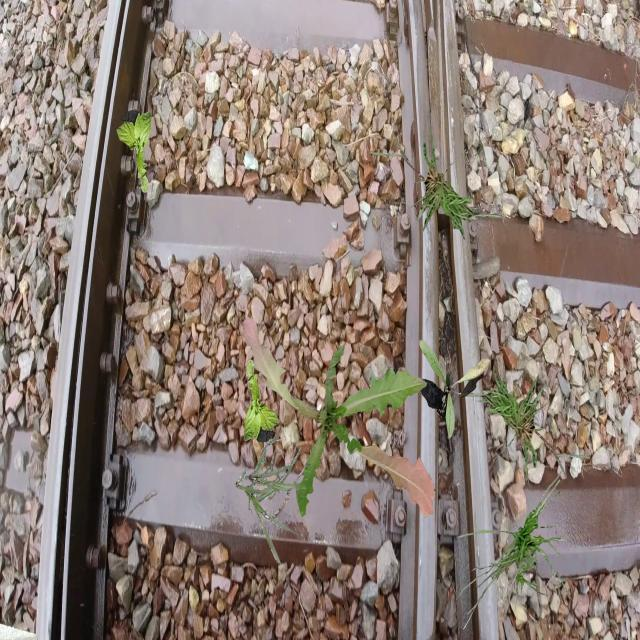Plant: (243, 317, 436, 520), (456, 468, 574, 632), (447, 370, 590, 490), (369, 121, 512, 240), (236, 439, 309, 564), (419, 340, 491, 440), (116, 110, 152, 194), (244, 359, 280, 442)
